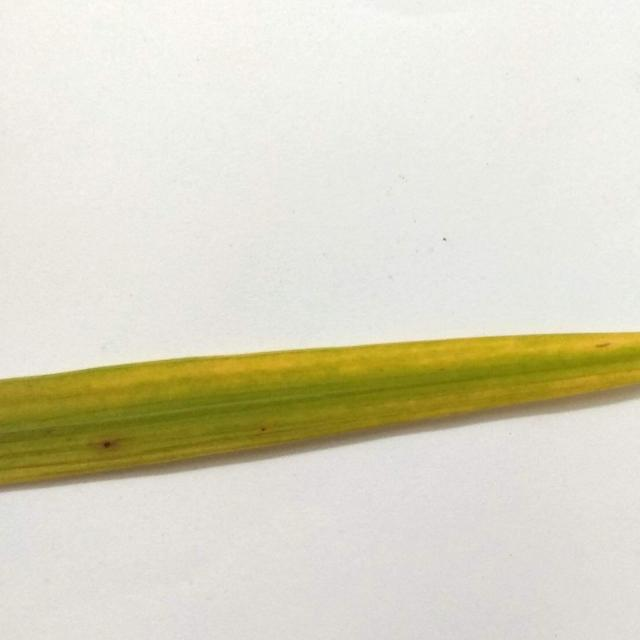Brown spot: (0, 286, 640, 501)
